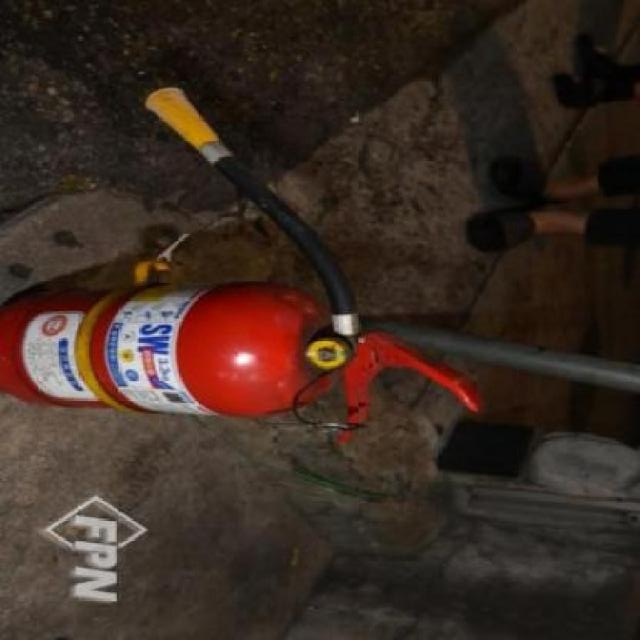fire extinguisher: (0, 87, 485, 444)
